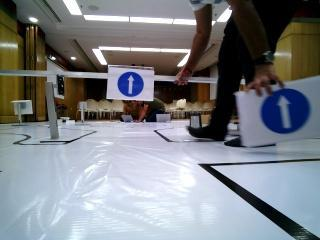straight: (241, 92, 320, 132), (107, 65, 155, 101)
